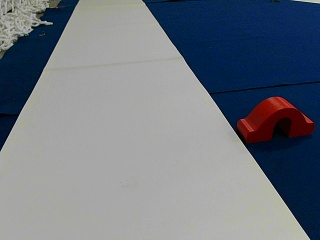bridge: (239, 97, 312, 141)
